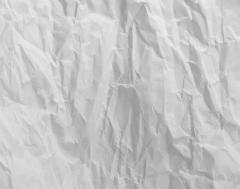paper: (0, 0, 239, 189)
